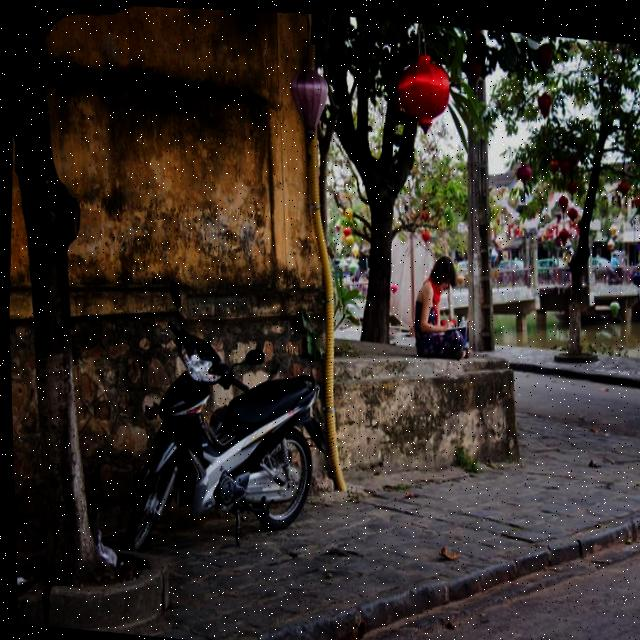motorcycle: (98, 347, 338, 584)
